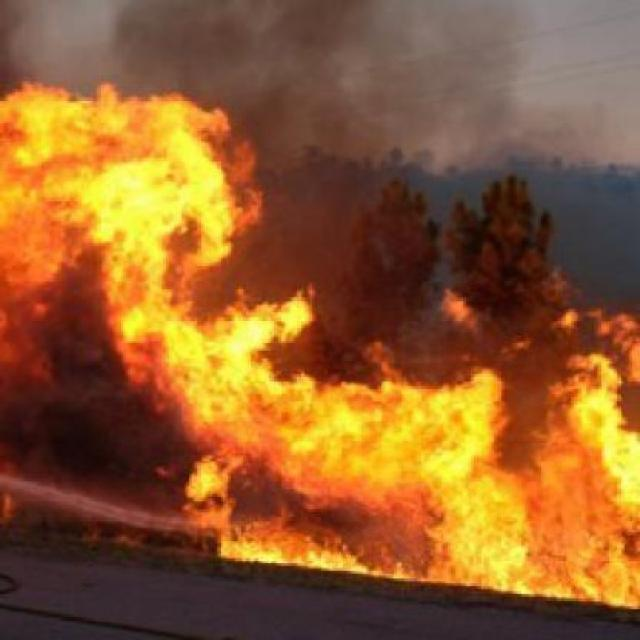Fire: (19, 238, 640, 633)
Smoke: (268, 3, 640, 254)
